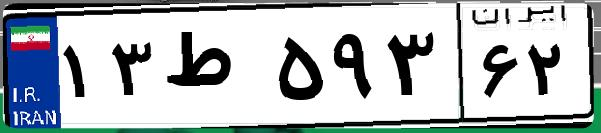1: (57, 26, 110, 100)
2: (525, 38, 570, 115)
3: (385, 28, 445, 110), (110, 28, 158, 98)
5: (270, 28, 330, 110)
6: (475, 38, 525, 113)
9: (330, 28, 385, 110)
ط: (158, 20, 270, 120)
